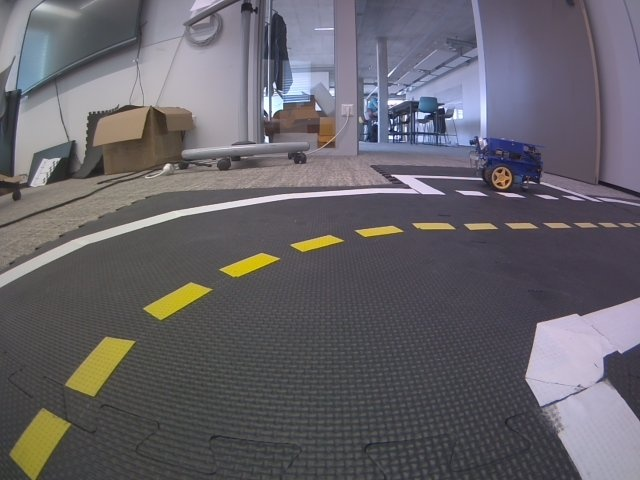Bot: (468, 136, 545, 191)
occupiedSlot: (391, 175, 601, 203)
